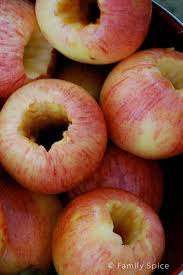damaged_apple: (2, 88, 105, 195), (54, 193, 173, 274), (107, 48, 183, 155), (36, 2, 144, 60), (2, 5, 51, 83)
